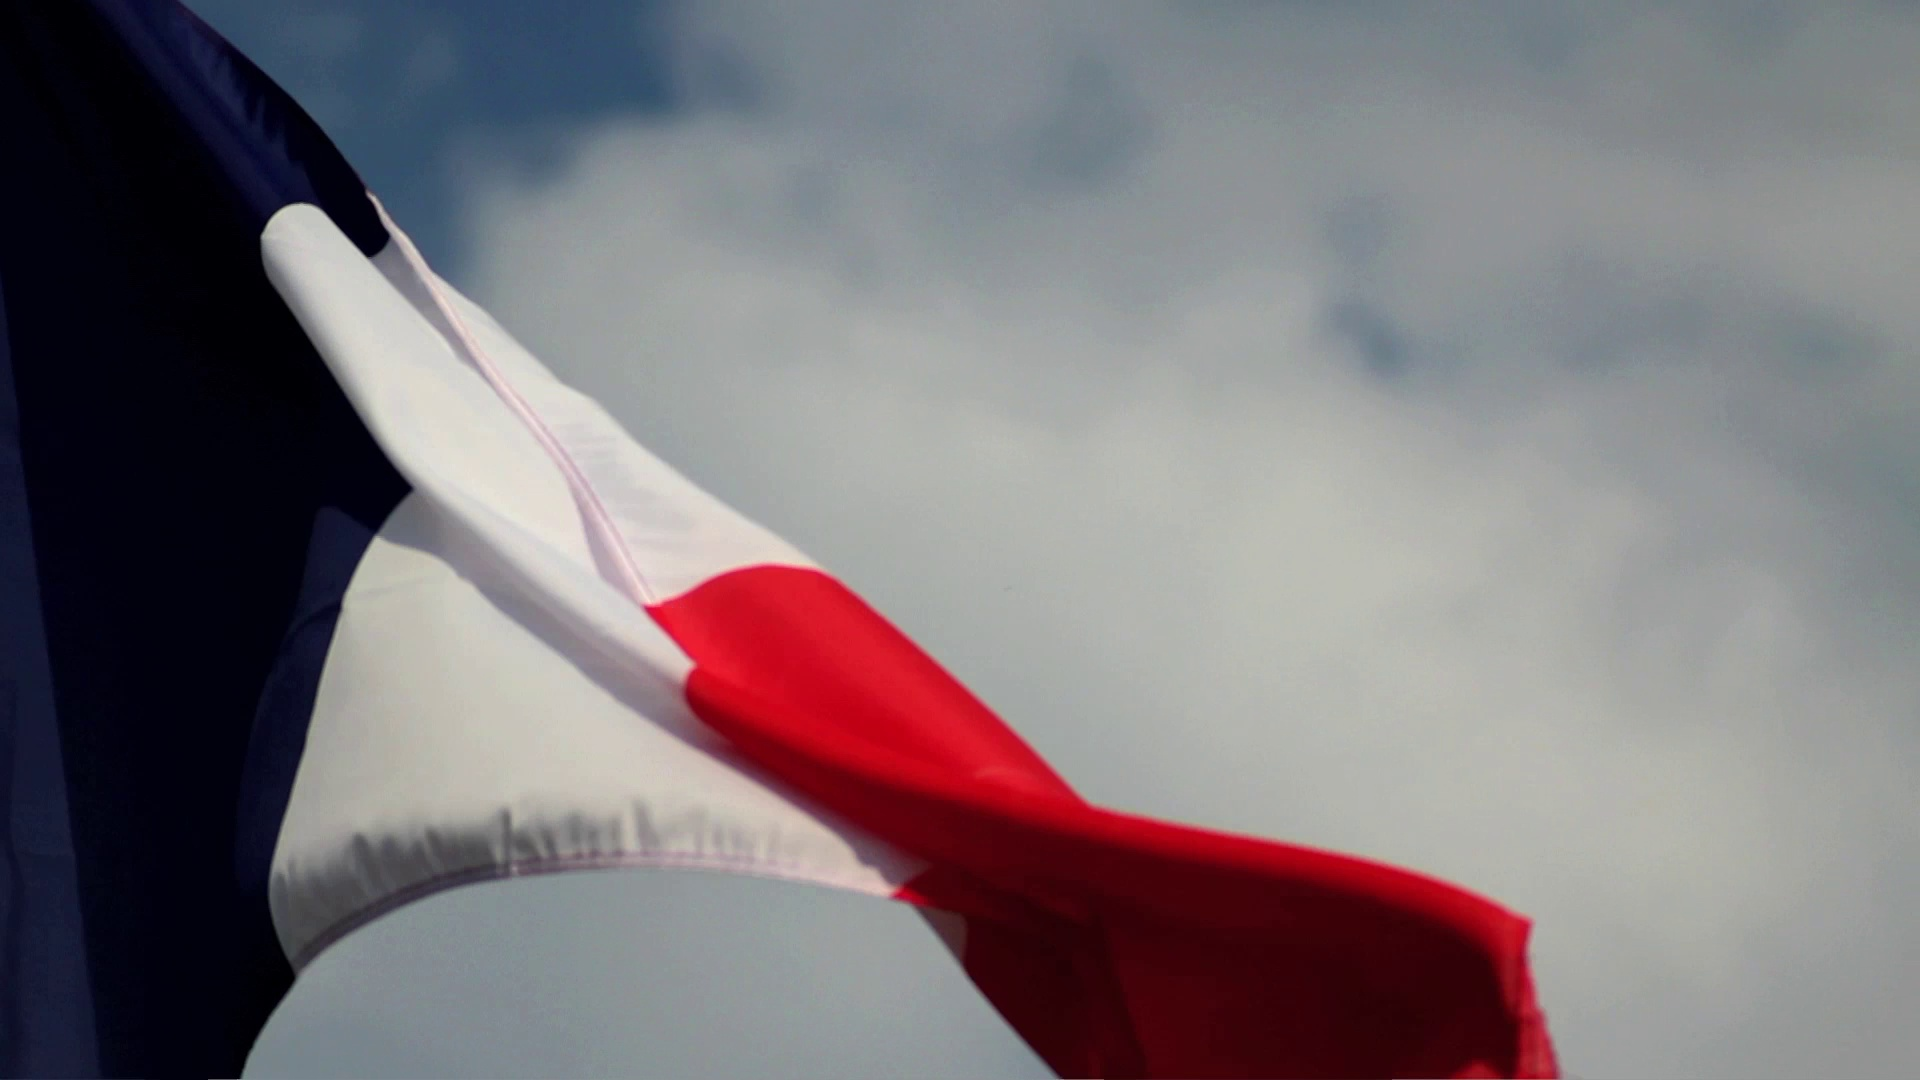French Flag: (1, 1, 1549, 1080)
